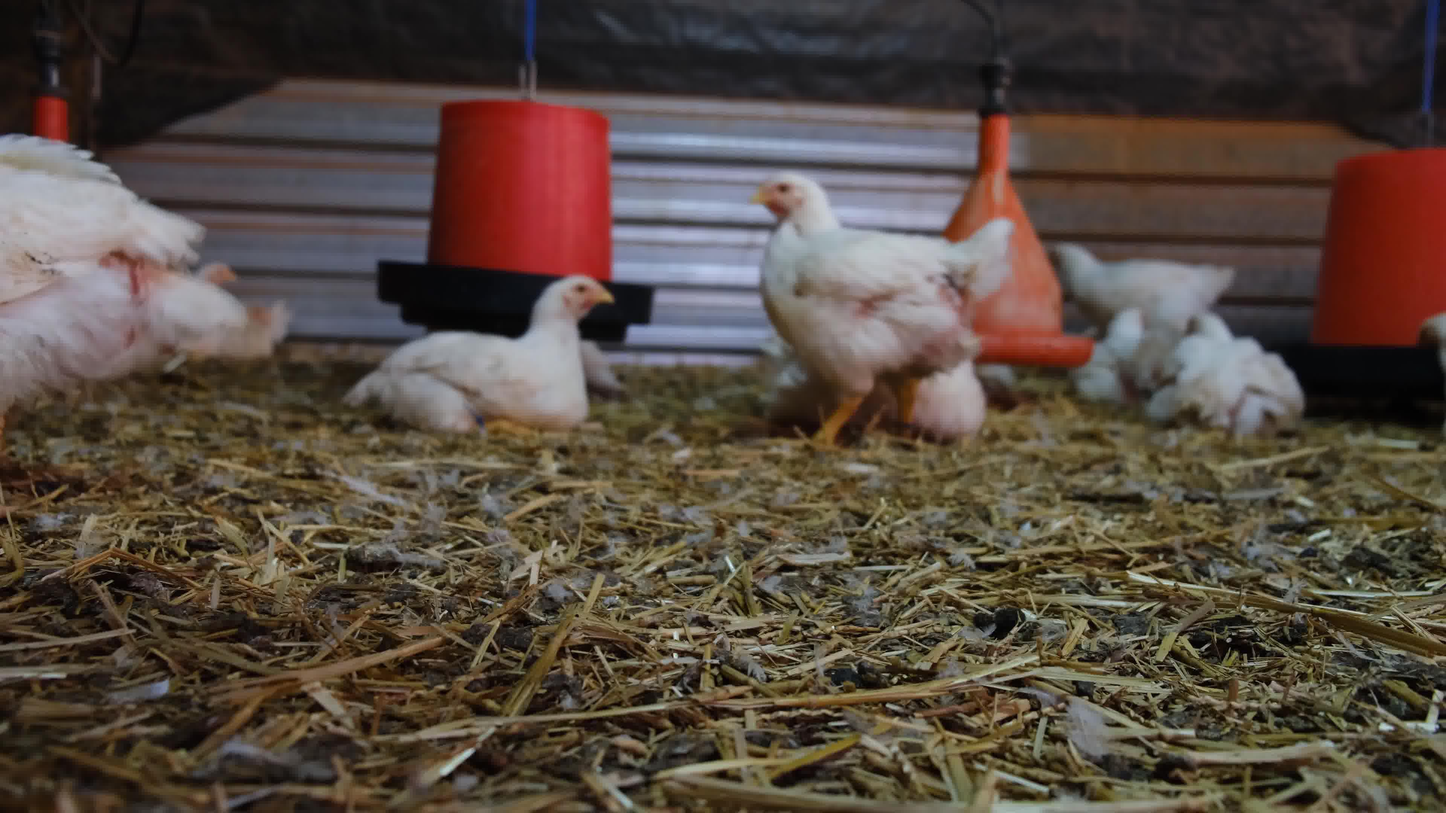AbNormal: (380, 263, 610, 454), (1171, 282, 1309, 459)
Normal: (0, 105, 296, 437), (725, 167, 1032, 446), (1051, 220, 1239, 352), (1049, 224, 1064, 226)
